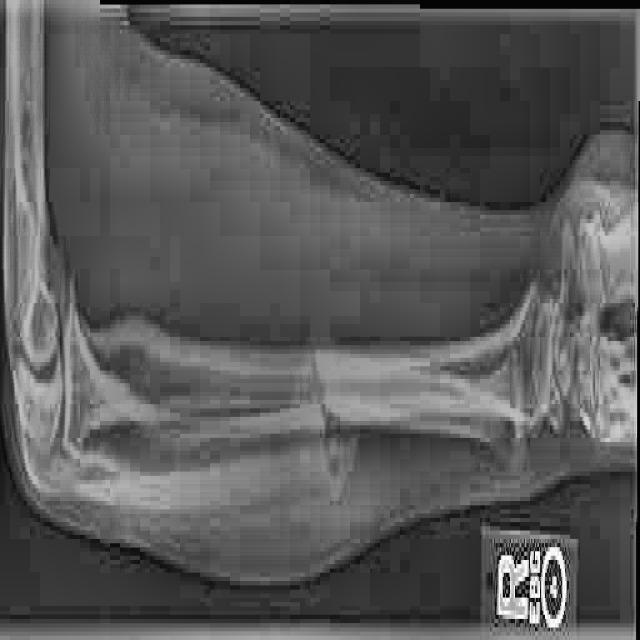forearm fracture: (290, 310, 378, 539)
